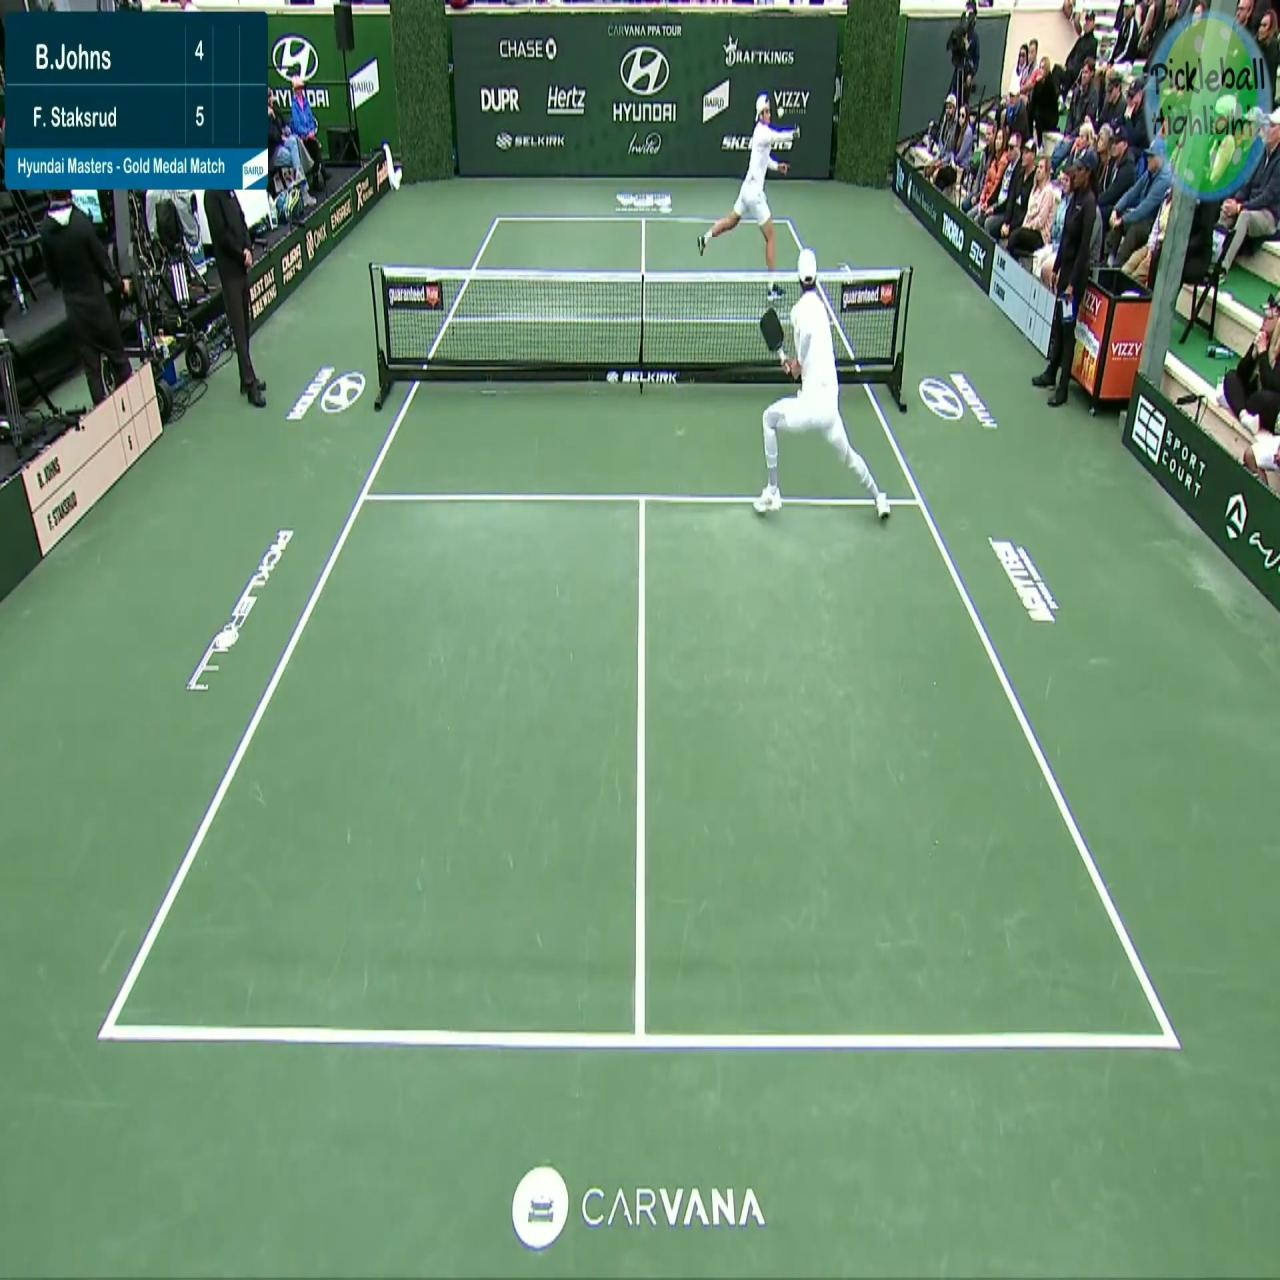pickleball: (776, 105, 784, 120)
